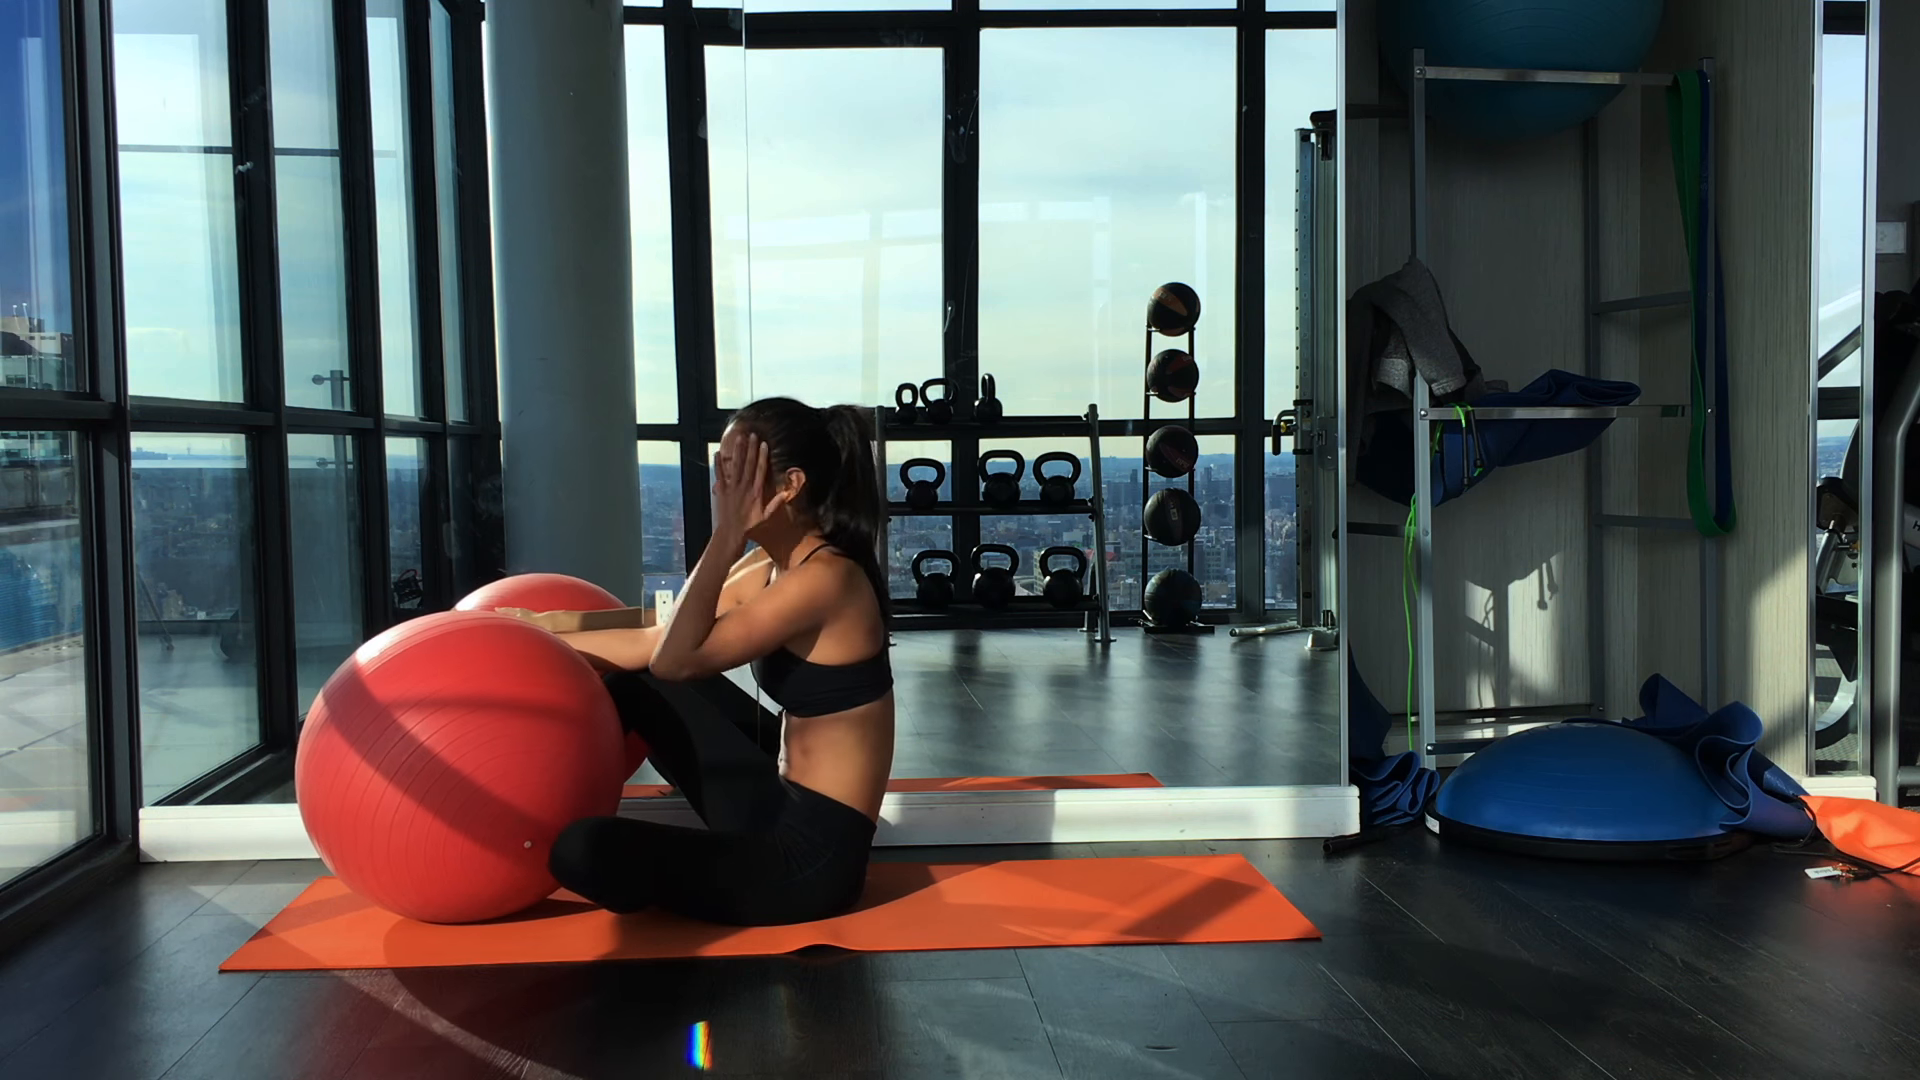yogaball: (289, 600, 626, 932)
